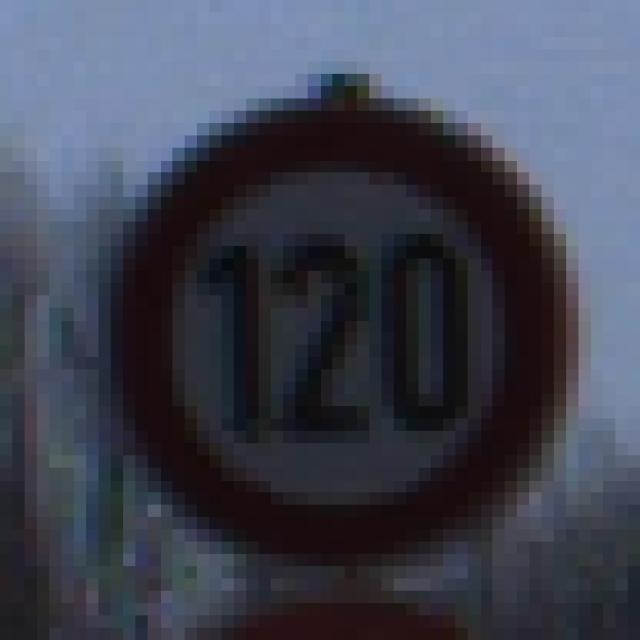forb_speed_over_120: (120, 104, 569, 565)
